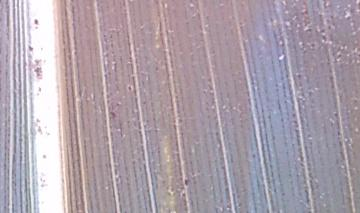tarspot: (105, 106, 121, 122), (180, 176, 195, 187), (247, 150, 258, 159)
